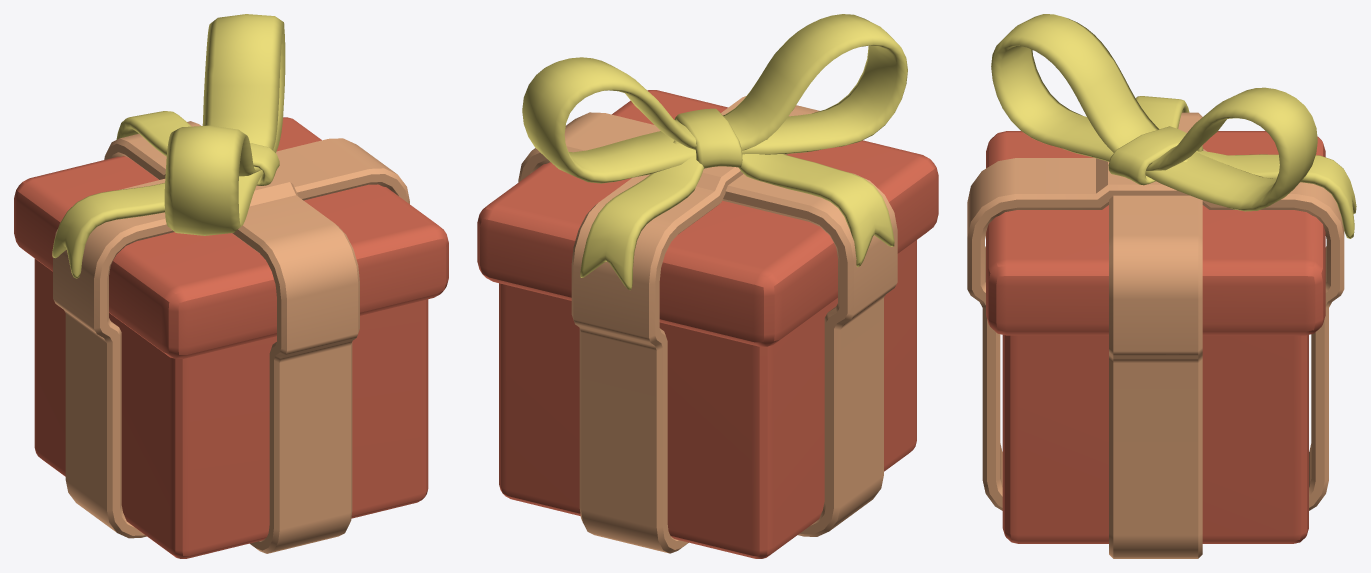
Rendered from Present.fbx.
3 renders of one model, left to right at view 1: azimuth 30°, elevation 25°; view 2: azimuth 150°, elevation 25°; view 3: azimuth 270°, elevation 25°, orthographic. The views are drawn at different scales.
Visible parts, largest first — view 1: pCube18, Top, Band1, Band, polySurface75, polySurface82, polySurface79, polySurface76, polySurface73; view 2: pCube18, Top, Band1, Band, polySurface82, polySurface75, polySurface76, polySurface79, polySurface73; view 3: pCube18, Band, Top, Band1, polySurface82, polySurface75, polySurface76, polySurface73, polySurface79.
Part boxes in pixels (x1,y1,x2,y2): pCube18: (34,258,428,558); Top: (14,117,448,358); Band1: (104,121,359,553); Band: (53,138,409,538); polySurface75: (202,14,285,152); polySurface82: (164,125,263,235); polySurface79: (52,183,164,278); polySurface76: (116,111,191,156); polySurface73: (250,143,279,185); pCube18: (499,240,916,558); Top: (477,90,938,346); Band1: (571,96,819,553); Band: (518,112,897,536); polySurface82: (723,14,907,154); polySurface75: (522,57,696,183); polySurface76: (580,140,704,290); polySurface79: (738,154,894,267); polySurface73: (674,108,742,168); pCube18: (1002,335,1308,543); Band: (1109,112,1202,558); Top: (986,131,1325,335); Band1: (967,149,1344,510); polySurface82: (991,14,1159,161); polySurface75: (1145,87,1317,211); polySurface76: (1183,151,1356,238); polySurface73: (1108,126,1203,185); polySurface79: (1135,96,1189,129).
Size of the model in its own units: 54.76 by 67.86 by 54.94.
